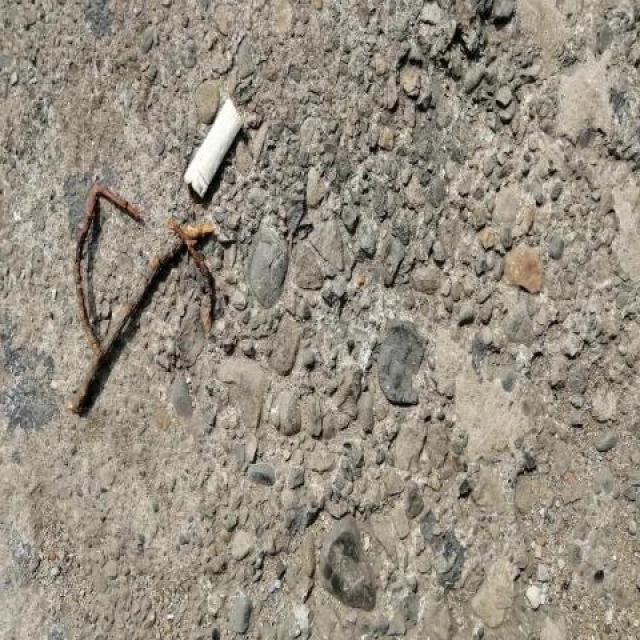non-organic waste: (182, 91, 250, 206)
